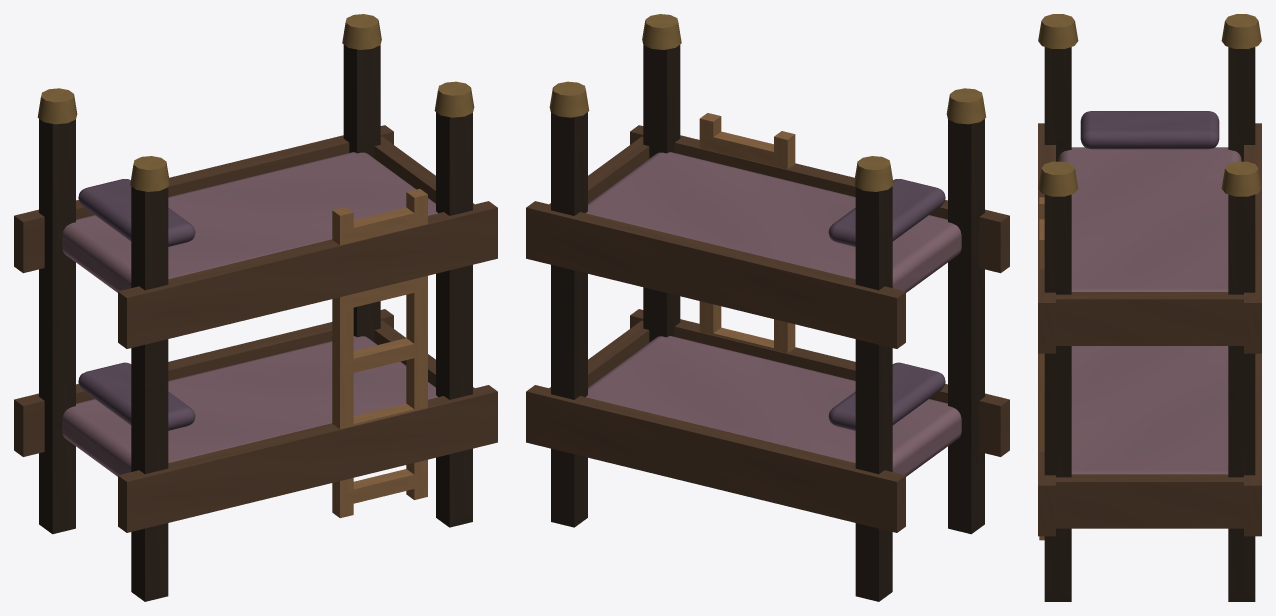
Rendered from sk-household-bunk-bed.glb.
The picture shows the model from 3 angles, left to right: view 1: azimuth 30°, elevation 25°; view 2: azimuth 150°, elevation 25°; view 3: azimuth 270°, elevation 25°; orthographic projection.
Visible parts, largest first — view 1: household:bunk_bed-static-wood (×3), household:bunk_bed-static-fabric (×2), household:bunk_bed-static-metal; view 2: household:bunk_bed-static-wood (×3), household:bunk_bed-static-fabric (×2), household:bunk_bed-static-metal; view 3: household:bunk_bed-static-wood (×3), household:bunk_bed-static-fabric (×2), household:bunk_bed-static-metal.
Part boxes in pixels (x1,y1,x2,y2): household:bunk_bed-static-wood (×3): (14,44,497,601); household:bunk_bed-static-fabric (×2): (62,152,437,476); household:bunk_bed-static-metal: (37,14,474,191); household:bunk_bed-static-wood (×3): (526,44,1009,601); household:bunk_bed-static-fabric (×2): (586,152,961,476); household:bunk_bed-static-metal: (549,14,986,191); household:bunk_bed-static-wood (×3): (1038,47,1261,601); household:bunk_bed-static-fabric (×2): (1058,111,1241,474); household:bunk_bed-static-metal: (1038,14,1261,196).
Size of the model in its own units: 1.9 by 2.11 by 1.
6 materials, 6 textured.
